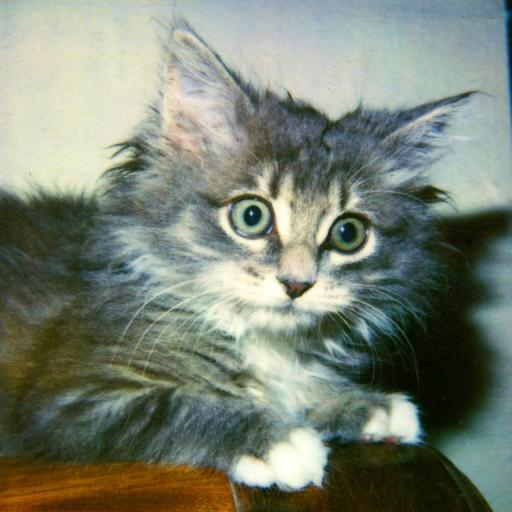cat: (0, 16, 482, 493)
